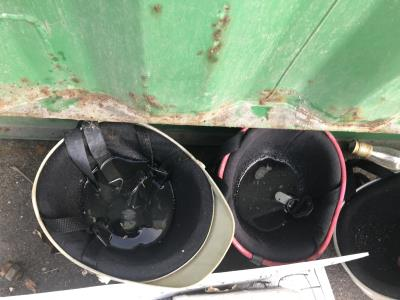bottle: (346, 138, 400, 176)
